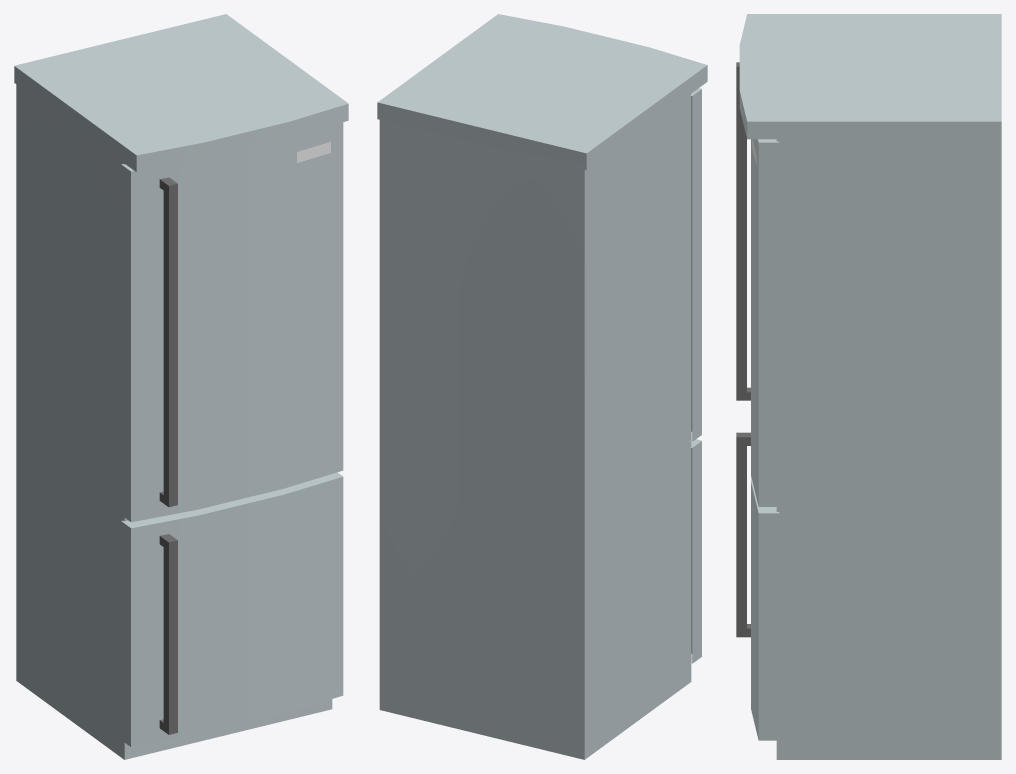
Rendered from Refrigerador.obj.
3 renders of one model, left to right at view 1: azimuth 30°, elevation 25°; view 2: azimuth 150°, elevation 25°; view 3: azimuth 270°, elevation 25°, orthographic. The views are drawn at different scales.
Visible parts, largest first — view 1: fridge_001; view 2: fridge_001; view 3: fridge_001.
Boxes of the visible parts, bbox=[...] form: fridge_001: bbox=[14, 14, 348, 759]; fridge_001: bbox=[377, 14, 707, 759]; fridge_001: bbox=[736, 14, 1001, 759].
Size of the model in its own units: 1.75 by 4.85 by 1.82.
Materials: 1 (1 with a texture image).
